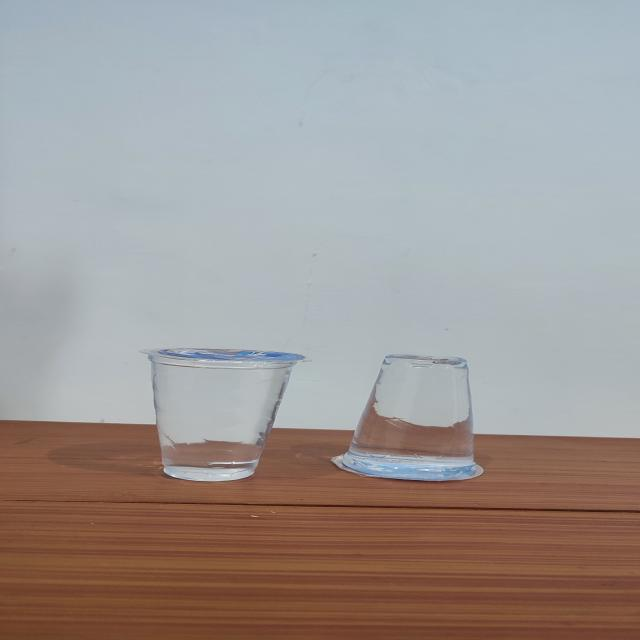air gelas: (126, 340, 314, 487), (328, 348, 492, 482)
